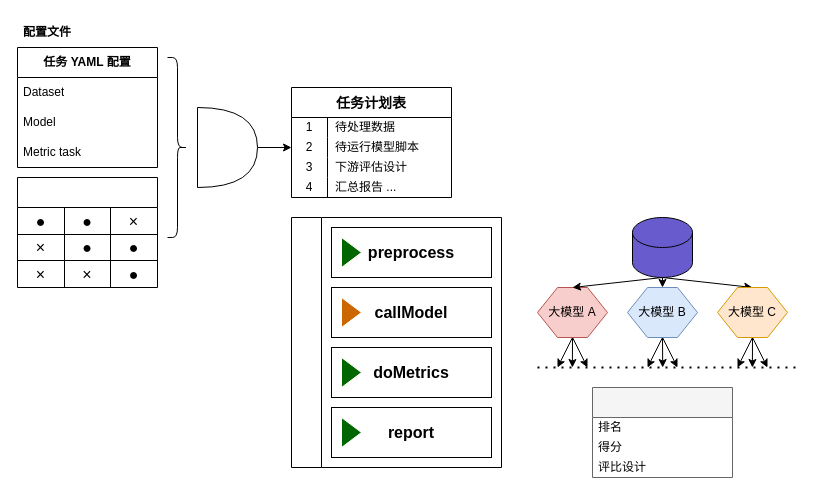
This 817x495 diagram has some shape labels left out. Here are the shapes that lost their labels. From the top down, the box of each, then its label:
(196, 106, 258, 188): 定制化 参数 解析器
(16, 176, 158, 288): 模型功能表
(632, 216, 692, 278): 预处理 生物数据
(290, 216, 502, 468): Snakemake 流程模块
(592, 386, 732, 478): 模型评估 汇报PDF/网页
